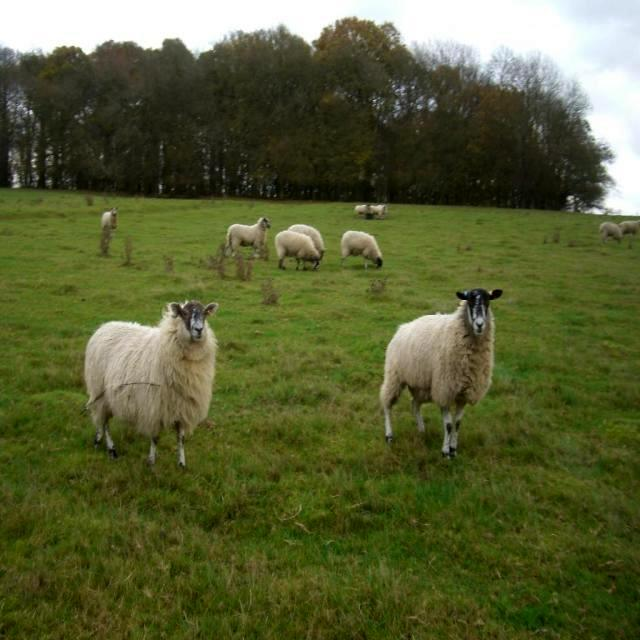sheep: (83, 300, 217, 465), (379, 290, 501, 454), (275, 229, 321, 269), (226, 218, 270, 255), (340, 230, 380, 267)
